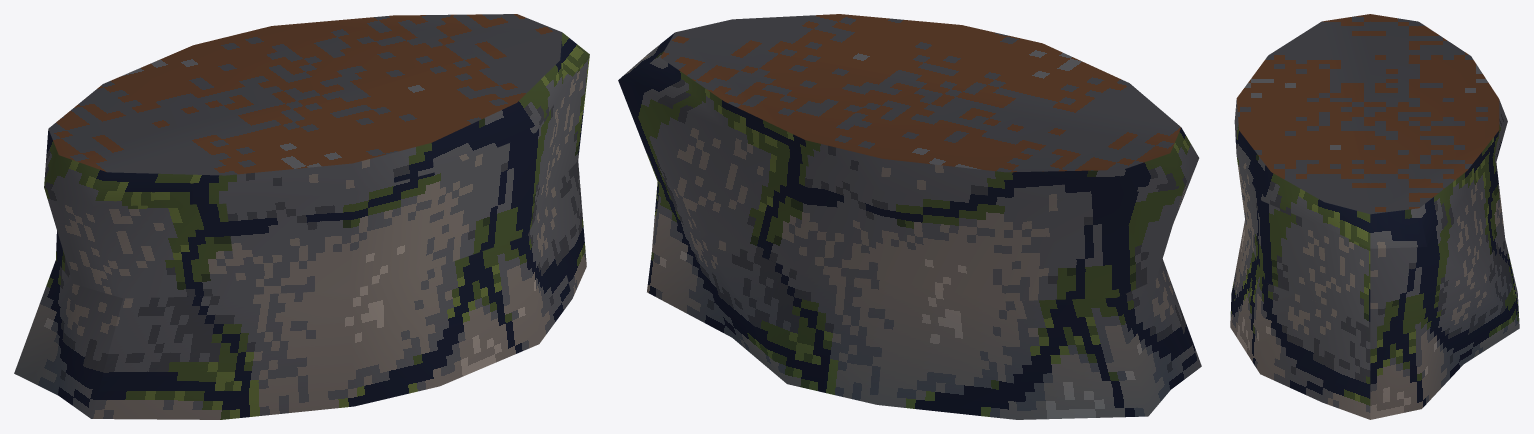
The model's file is cave.ledge.glb.
3 views of the same model, side by side, from view 1: azimuth 30°, elevation 25°; view 2: azimuth 150°, elevation 25°; view 3: azimuth 270°, elevation 25° (orthographic). The views are drawn at different scales.
Visible parts, largest first — view 1: kit_ledge; view 2: kit_ledge; view 3: kit_ledge.
Part boxes in pixels (x1,y1,x2,y2): kit_ledge: (14,14,589,419); kit_ledge: (618,14,1201,419); kit_ledge: (1230,14,1519,419).
Size of the model in its own units: 4.28 by 1.8 by 2.41.
2 materials, 2 textured.
